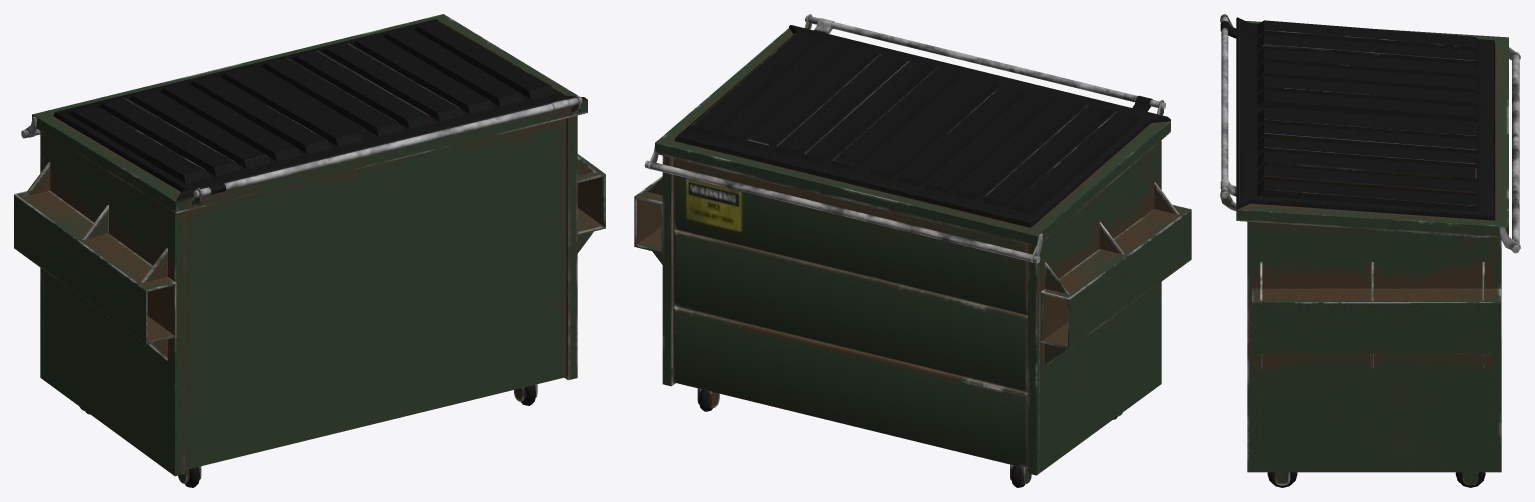
File: prop_dumpster.glb
The picture shows the model from 3 angles, left to right: view 1: azimuth 30°, elevation 25°; view 2: azimuth 150°, elevation 25°; view 3: azimuth 270°, elevation 25°; orthographic projection. The views are drawn at different scales.
Parts seen in each view (by area): view 1: prop_dumpster; view 2: prop_dumpster; view 3: prop_dumpster.
Boxes of the visible parts, box(x1,y1,x2,y2) form: prop_dumpster: box(14, 14, 605, 487); prop_dumpster: box(634, 14, 1191, 487); prop_dumpster: box(1220, 14, 1520, 487).
Size of the model in its own units: 2.03 by 1.37 by 1.21.
1 material, 1 textured.
